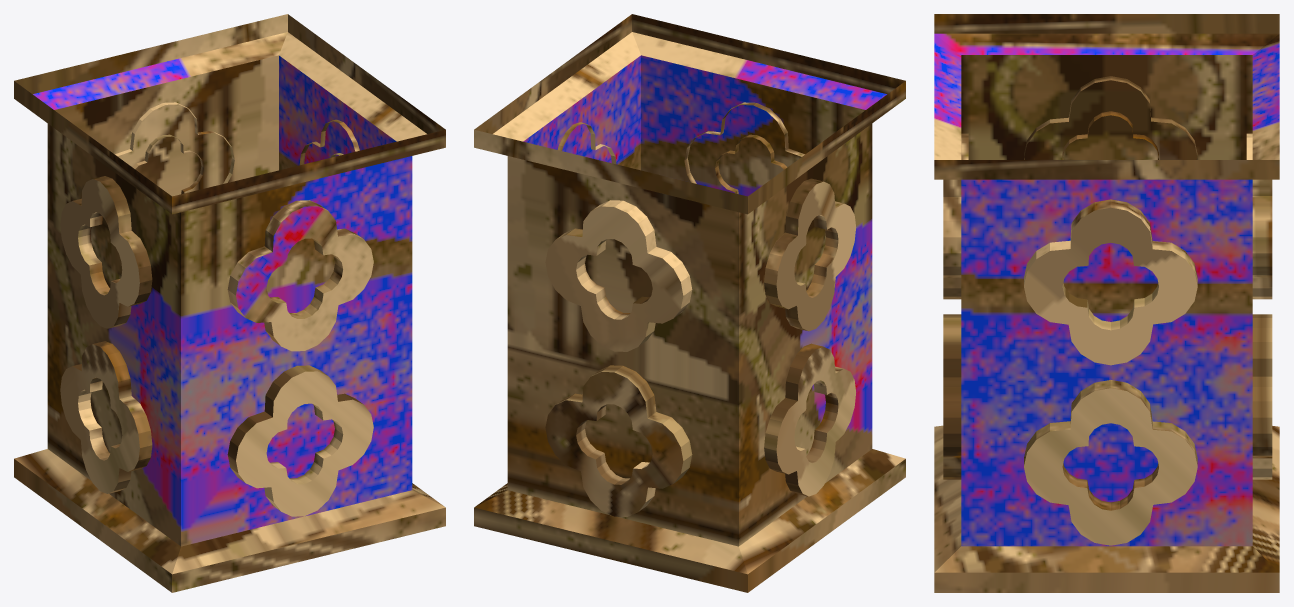
File: SM_Columna3.fbx
3 renders of one model, left to right at view 1: azimuth 30°, elevation 25°; view 2: azimuth 150°, elevation 25°; view 3: azimuth 270°, elevation 25°, orthographic. The views are drawn at different scales.
Visible parts, largest first — view 1: SM_Columna3; view 2: SM_Columna3; view 3: SM_Columna3.
Boxes of the visible parts, x1,y1,x2,y2 form: SM_Columna3: [14, 14, 445, 592]; SM_Columna3: [474, 14, 905, 592]; SM_Columna3: [934, 14, 1279, 592].
Bounding box in the file's own units: 72.26 × 100 × 72.26.
